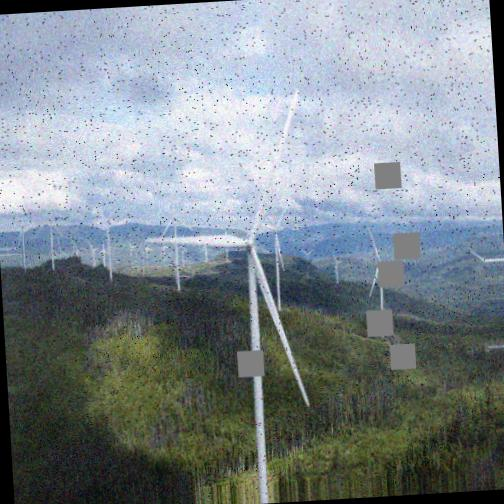wind turbine: (144, 89, 311, 503), (364, 225, 403, 333), (159, 199, 195, 290)
